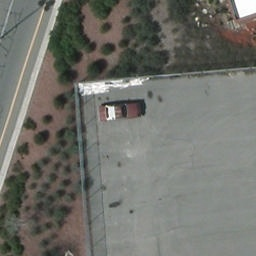car: (99, 102, 146, 124)
